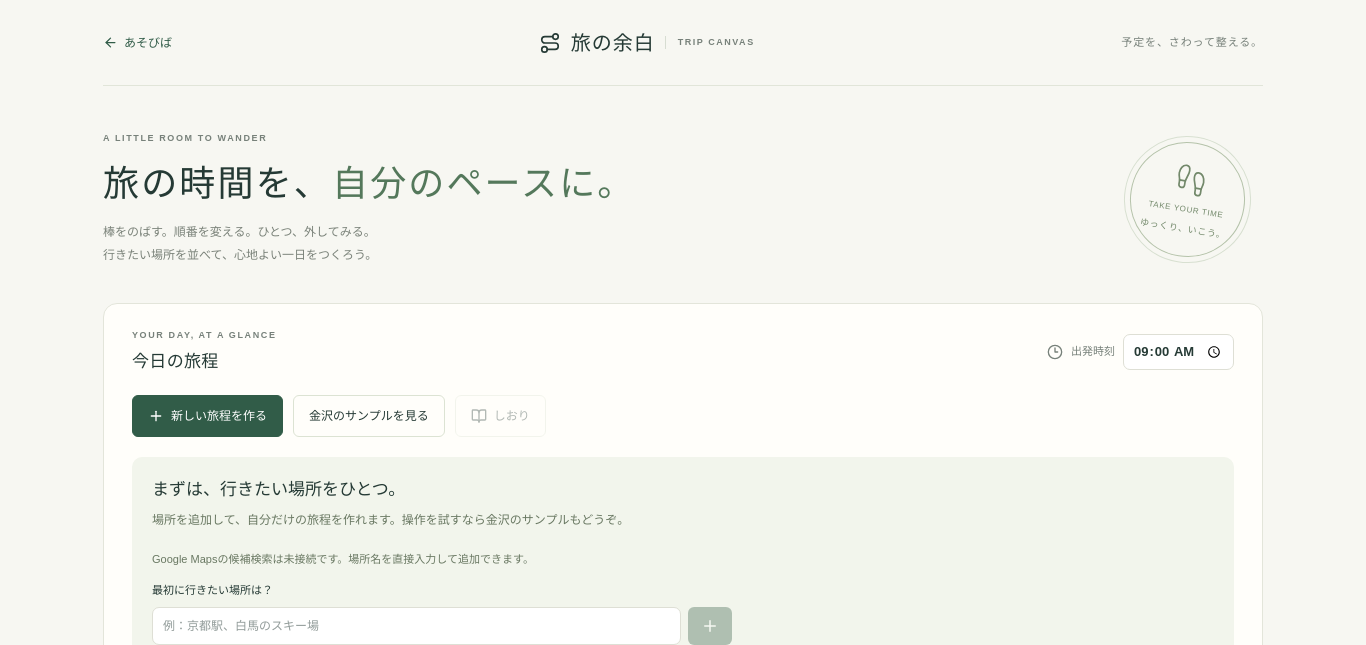
Test: TripPlanner › 並べ替えで移動先が変われば時間を流用せず、同じ区間へ戻すと入力を保つ
Click the button "金沢のサンプルを見る".
click(369, 416)  # box [293,395,445,437]
(page scrolled)
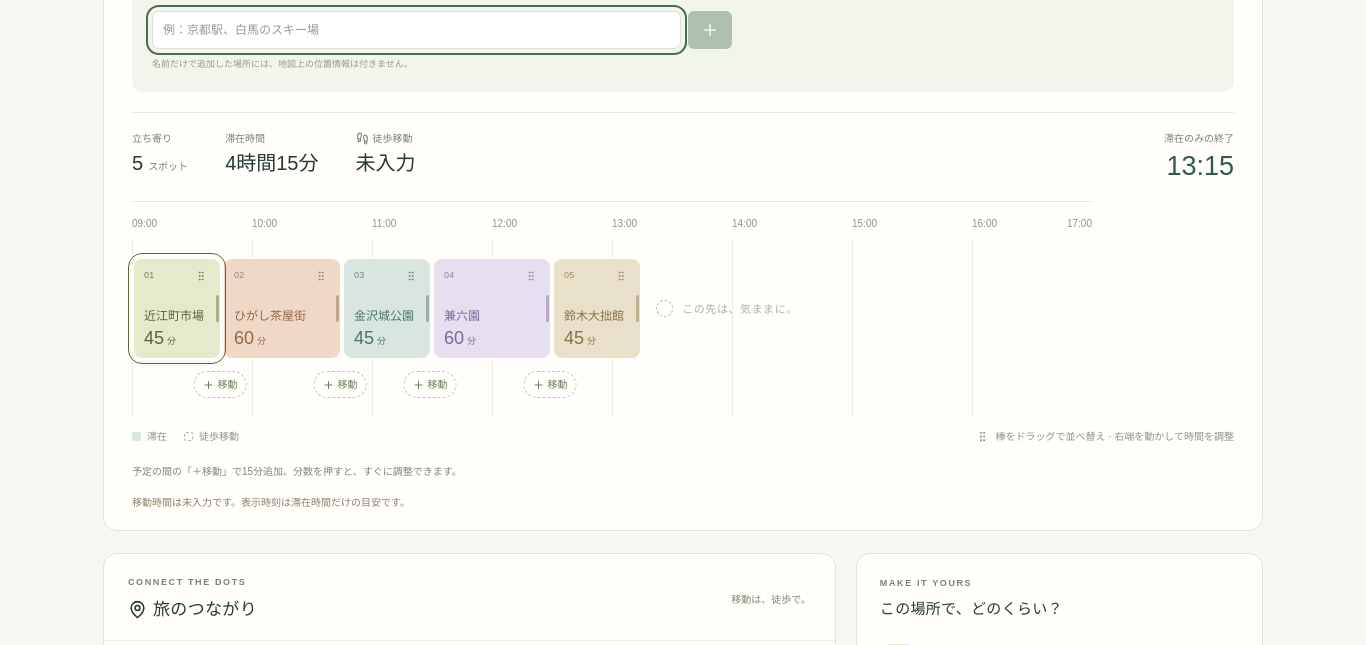
Click the button with aria-label "近江町市場からひがし茶屋街への移動時間を追加".
click(220, 385)  # box [194,371,246,398]
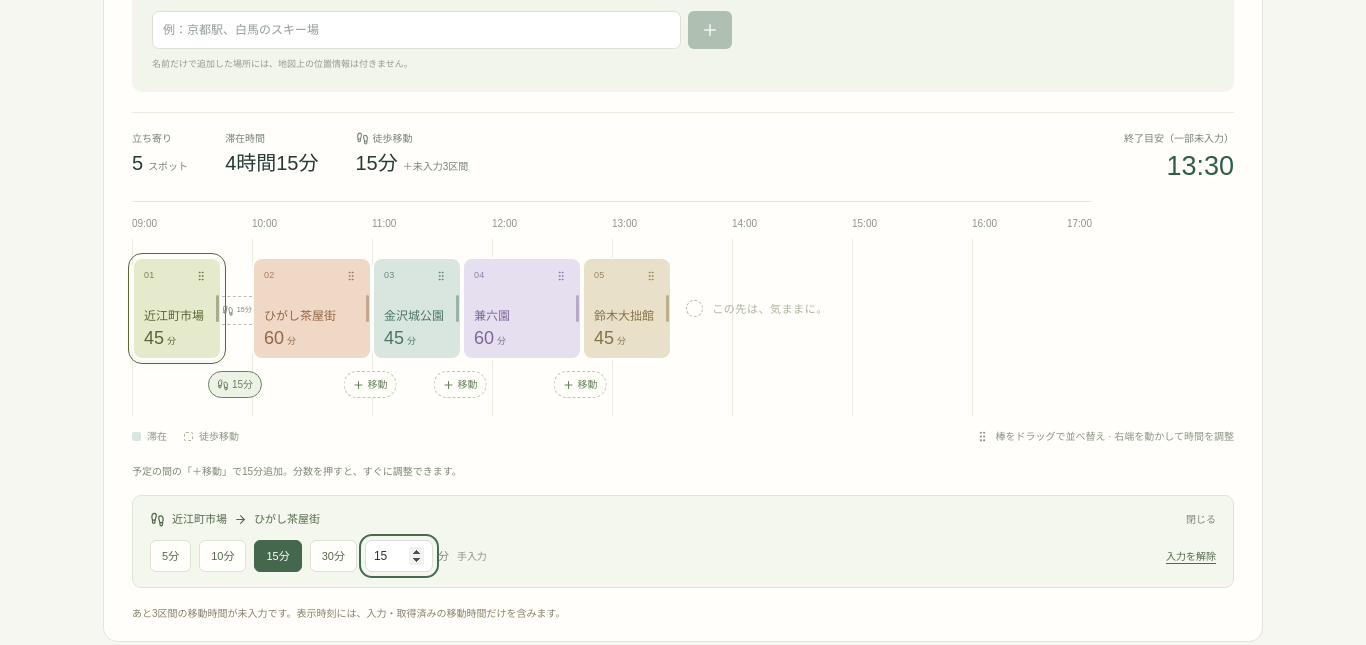
Click the button "30分".
click(333, 556)  # box [310,540,357,572]
(page scrolled)
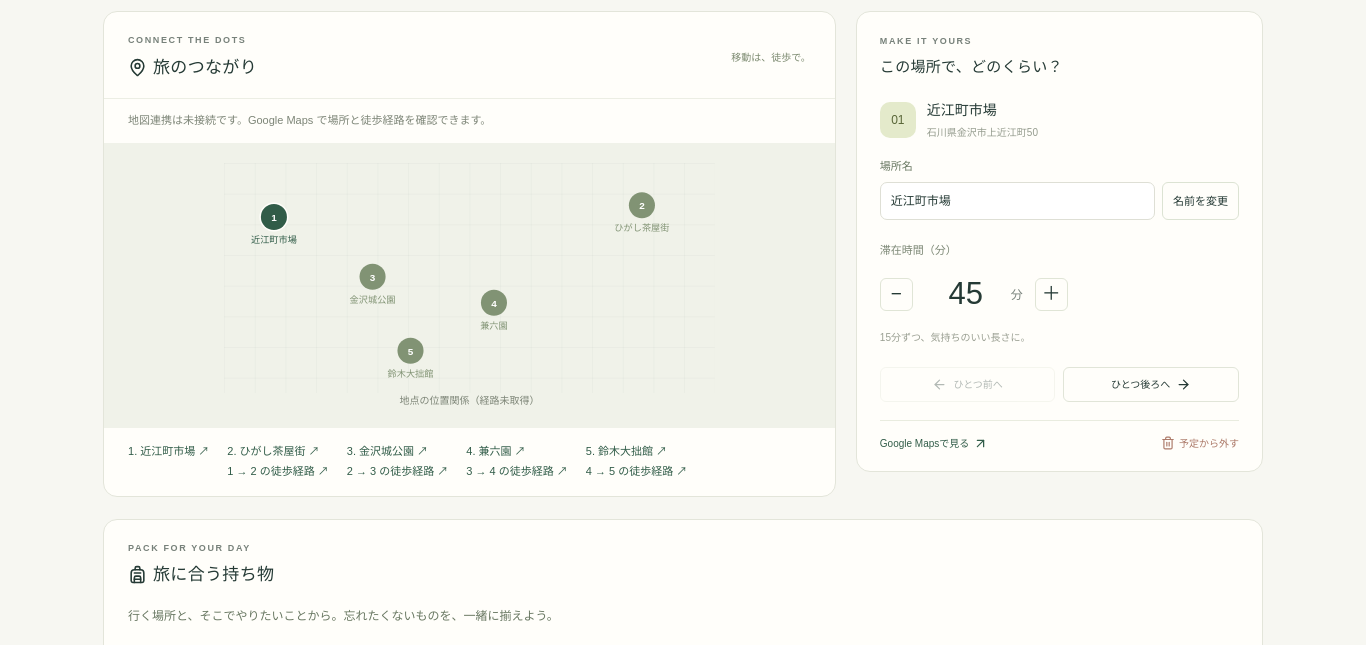
Click the button "ひとつ後ろへ".
click(1151, 384)  # box [1063,367,1239,402]
(page scrolled)
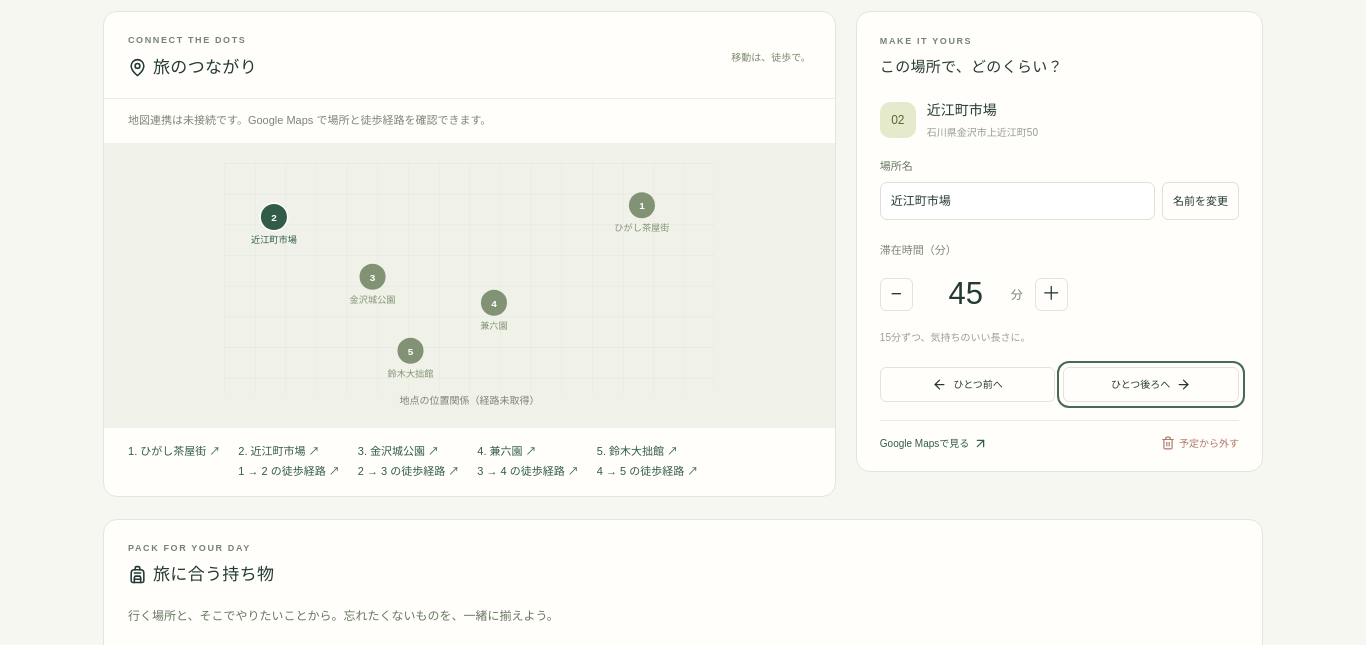
Click the button "ひとつ前へ".
click(968, 384)  # box [880,367,1055,402]
(page scrolled)
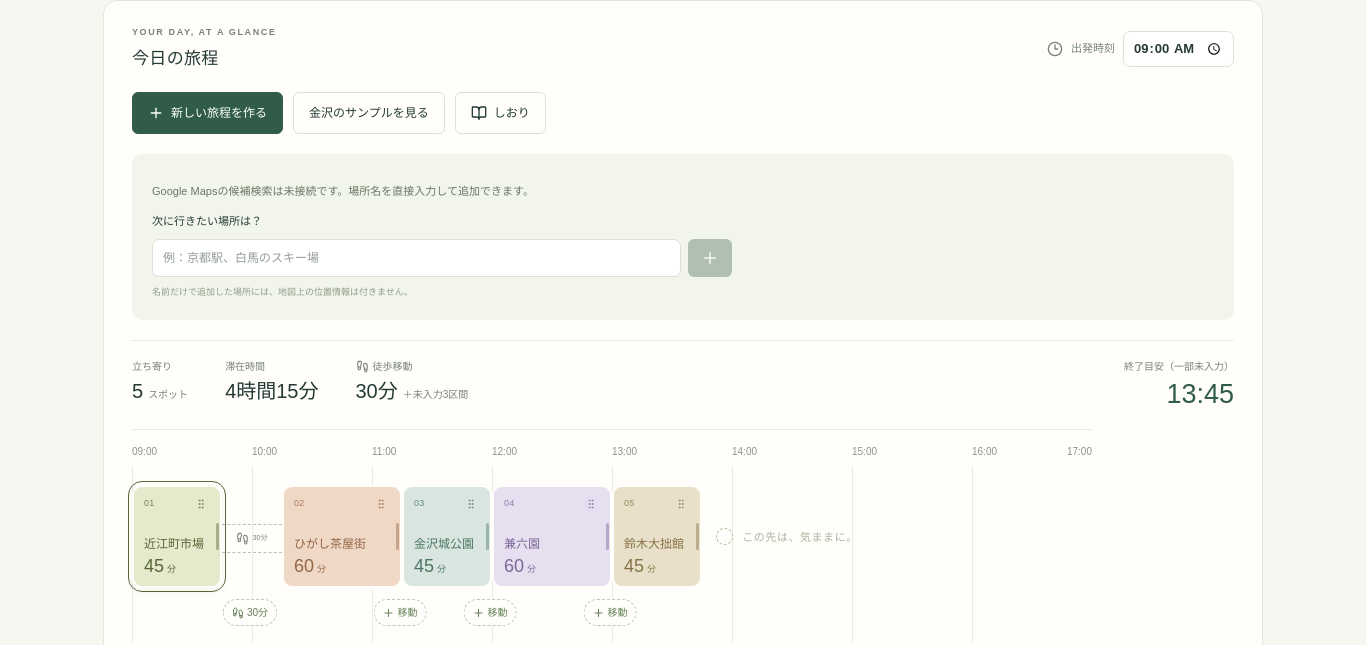
Result: the button named "近江町市場からひがし茶屋街への移動時間30分を編集" is shown at [223,599,277,626]
Result: the element with test id "trip-summary" shows "13:45" at [1166,379,1234,409]
